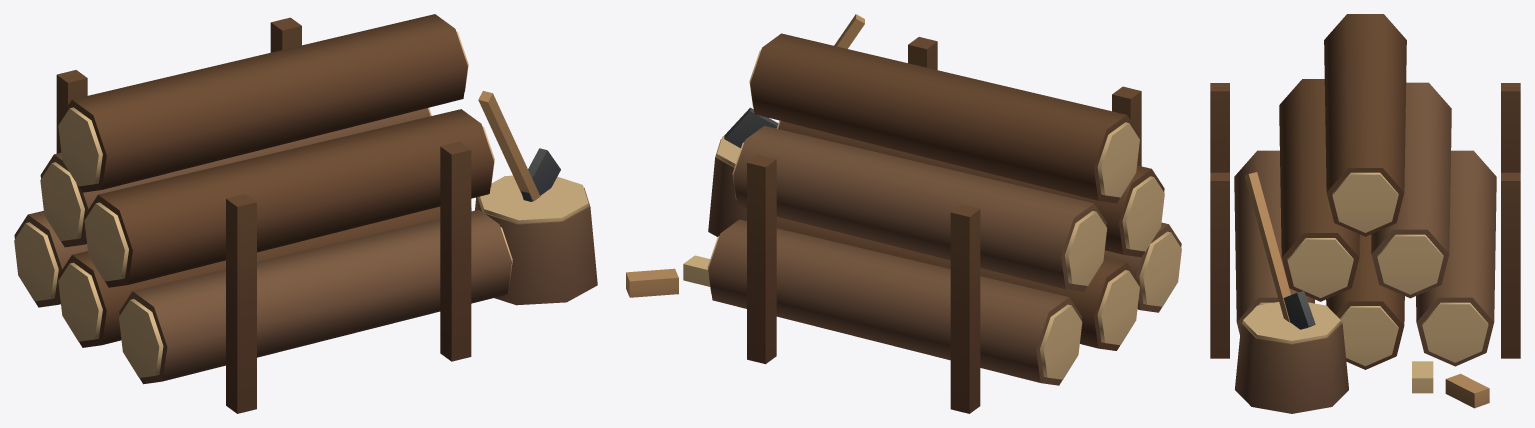
File: res_wood_log.glb
3 renders of one model, left to right at view 1: azimuth 30°, elevation 25°; view 2: azimuth 150°, elevation 25°; view 3: azimuth 270°, elevation 25°, orthographic. The views are drawn at different scales.
Parts seen in each view (by area): view 1: res_wood_log; view 2: res_wood_log; view 3: res_wood_log.
Boxes of the visible parts, bbox=[...] form: res_wood_log: bbox=[14, 14, 597, 413]; res_wood_log: bbox=[626, 14, 1181, 413]; res_wood_log: bbox=[1210, 14, 1520, 413].
Size of the model in its own units: 5.7 by 2.97 by 3.8.
1 material, 1 textured.
